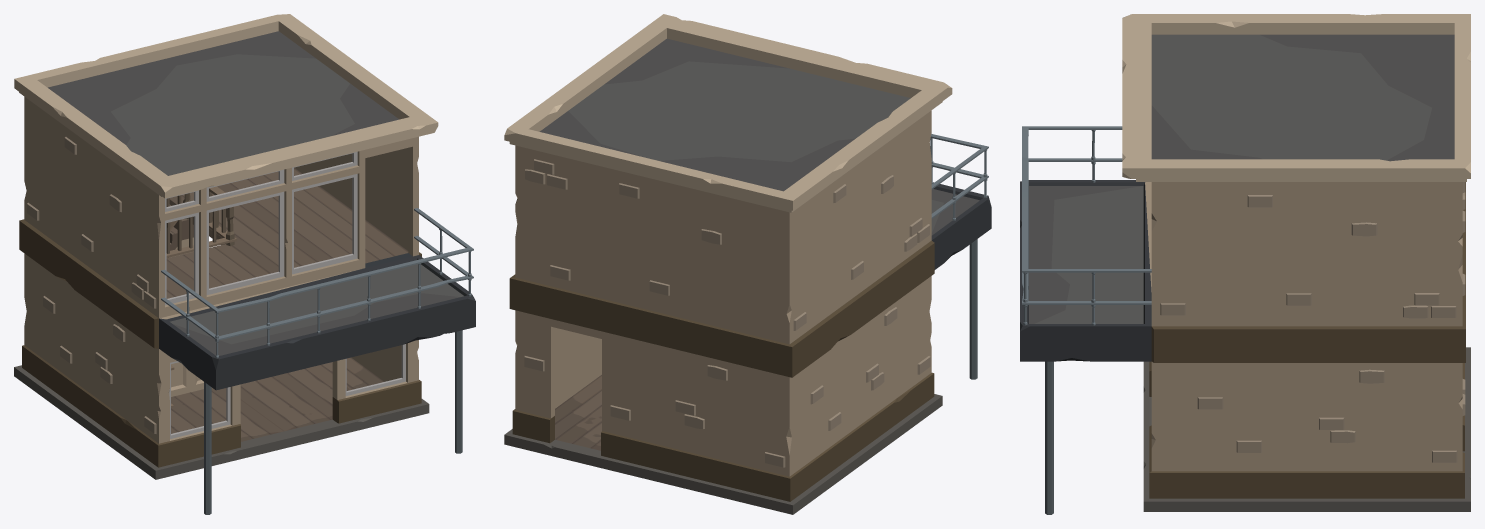
Rendered from SM_Bld_Cafe_01.obj.
The picture shows the model from 3 angles, left to right: view 1: azimuth 30°, elevation 25°; view 2: azimuth 150°, elevation 25°; view 3: azimuth 270°, elevation 25°; orthographic projection. The views are drawn at different scales.
Parts seen in each view (by area): view 1: SM_Bld_Cafe_01_0; view 2: SM_Bld_Cafe_01_0; view 3: SM_Bld_Cafe_01_0.
Part boxes in pixels (x1=…): SM_Bld_Cafe_01_0: x1=14, y1=14, x2=475, y2=514; SM_Bld_Cafe_01_0: x1=504, y1=14, x2=991, y2=514; SM_Bld_Cafe_01_0: x1=1020, y1=14, x2=1470, y2=514.
Size of the model in its own units: 5.8 by 6.16 by 7.16.
Materials: 1 (1 with a texture image).
